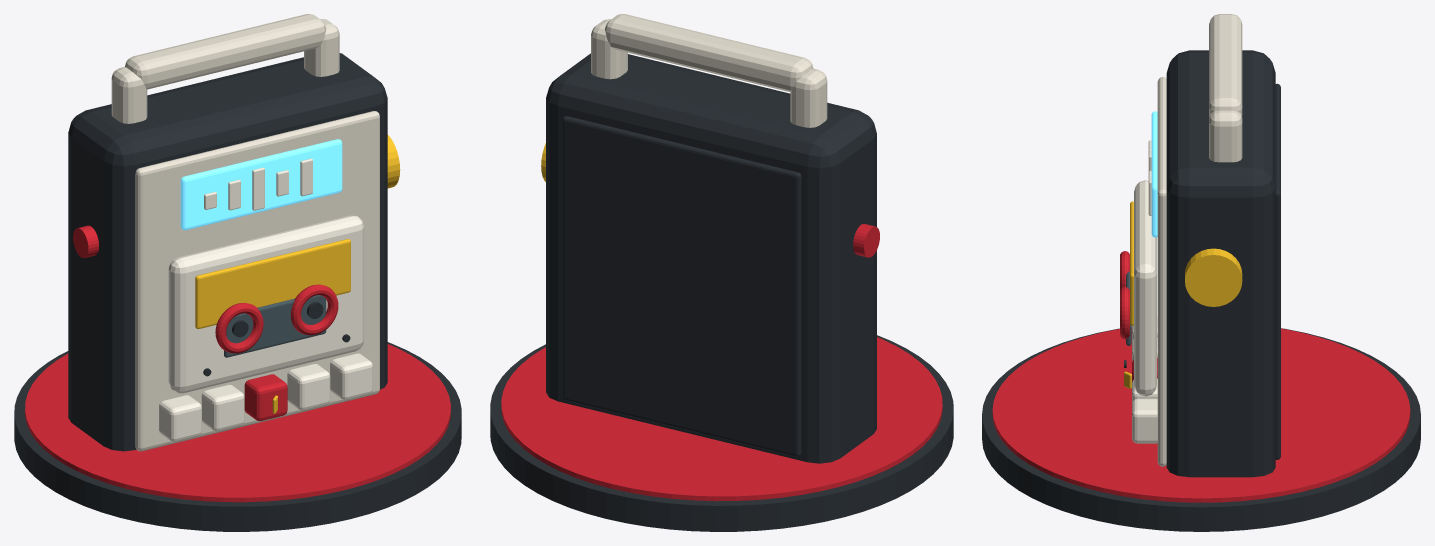
The model's file is study-smart-cassette-blockout.glb.
The picture shows the model from 3 angles, left to right: view 1: azimuth 30°, elevation 25°; view 2: azimuth 150°, elevation 25°; view 3: azimuth 270°, elevation 25°; orthographic projection. The views are drawn at different scales.
Visible parts, largest first — view 1: PLAYER_BODY, DISPLAY_PLINTH_ACCENT, PLAYER_FRONT_PANEL, DISPLAY_PLINTH, CASSETTE_BODY, CASSETTE_LABEL, DISPLAY, HANDLE_TOP, CASSETTE_WINDOW, HANDLE_LEFT, CONTROL_3, CONTROL_1 (+9 smaller); view 2: PLAYER_REAR_PANEL, PLAYER_BODY, DISPLAY_PLINTH_ACCENT, DISPLAY_PLINTH, HANDLE_TOP, HANDLE_LEFT, HANDLE_RIGHT, HEADPHONE_JACK; view 3: PLAYER_BODY, DISPLAY_PLINTH_ACCENT, DISPLAY_PLINTH, CASSETTE_BODY, PLAYER_FRONT_PANEL, HANDLE_TOP, VOLUME_DIAL, PLAYER_REAR_PANEL, HANDLE_RIGHT, CONTROL_4, DISPLAY, REEL_RIGHT.
Boxes of the visible parts, x1=… form: PLAYER_BODY: x1=68, y1=53, x2=387, y2=451; DISPLAY_PLINTH_ACCENT: x1=25, y1=344, x2=450, y2=502; PLAYER_FRONT_PANEL: x1=135, y1=111, x2=379, y2=451; DISPLAY_PLINTH: x1=14, y1=342, x2=461, y2=531; CASSETTE_BODY: x1=168, y1=215, x2=364, y2=393; CASSETTE_LABEL: x1=195, y1=239, x2=350, y2=328; DISPLAY: x1=180, y1=139, x2=342, y2=230; HANDLE_TOP: x1=125, y1=14, x2=326, y2=89; CASSETTE_WINDOW: x1=224, y1=295, x2=326, y2=357; HANDLE_LEFT: x1=111, y1=67, x2=147, y2=123; CONTROL_3: x1=287, y1=364, x2=330, y2=410; CONTROL_1: x1=201, y1=384, x2=244, y2=431; PLAYER_REAR_PANEL: x1=562, y1=116, x2=801, y2=456; PLAYER_BODY: x1=546, y1=53, x2=876, y2=463; DISPLAY_PLINTH_ACCENT: x1=501, y1=337, x2=942, y2=501; DISPLAY_PLINTH: x1=490, y1=335, x2=953, y2=531; HANDLE_TOP: x1=605, y1=14, x2=813, y2=92; HANDLE_LEFT: x1=790, y1=68, x2=827, y2=127; HANDLE_RIGHT: x1=591, y1=19, x2=627, y2=79; HEADPHONE_JACK: x1=853, y1=223, x2=879, y2=257; PLAYER_BODY: x1=1166, y1=50, x2=1275, y2=477; DISPLAY_PLINTH_ACCENT: x1=992, y1=327, x2=1410, y2=502; DISPLAY_PLINTH: x1=982, y1=328, x2=1420, y2=531; CASSETTE_BODY: x1=1134, y1=180, x2=1156, y2=396; PLAYER_FRONT_PANEL: x1=1157, y1=77, x2=1166, y2=466; HANDLE_TOP: x1=1209, y1=14, x2=1242, y2=116; VOLUME_DIAL: x1=1185, y1=248, x2=1242, y2=306; PLAYER_REAR_PANEL: x1=1275, y1=83, x2=1280, y2=459; HANDLE_RIGHT: x1=1209, y1=110, x2=1242, y2=162; CONTROL_4: x1=1132, y1=398, x2=1157, y2=443; DISPLAY: x1=1151, y1=111, x2=1157, y2=237; REEL_RIGHT: x1=1120, y1=287, x2=1129, y2=339.
Size of the model in its own units: 2.9 by 2.79 by 2.9.
